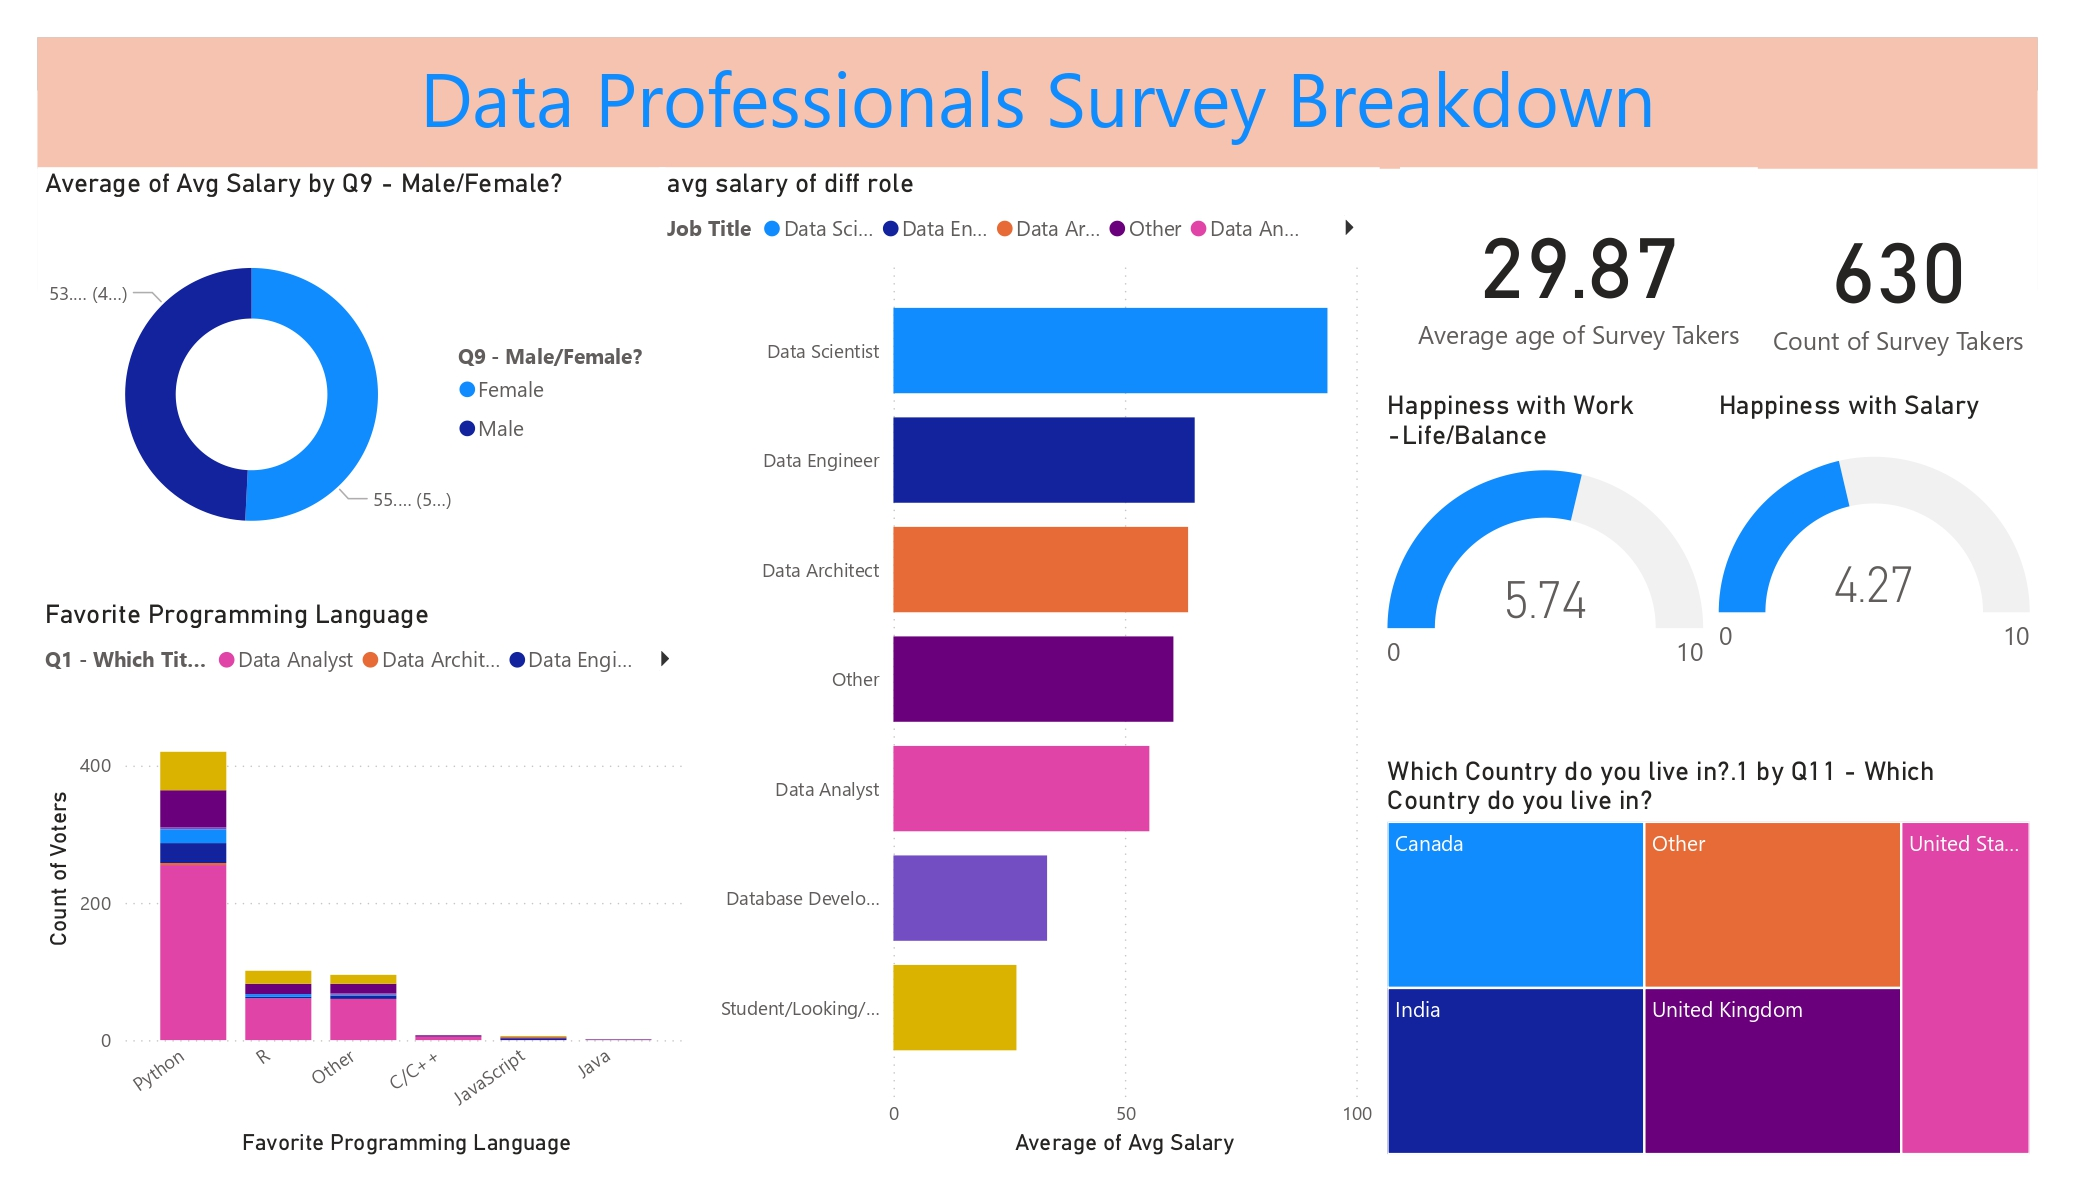

This screenshot's page, from the dashboard's own definition file:
{"tool":"powerbi","page":{"name":"Page 1","canvas":[1280,720],"ordinal":0},"visuals":[{"type":"card","fields":{"Values":["Count(Data Professional Survey.Unique ID)"]},"box":[1101.9,83.7,178.4,142.7],"z":0},{"type":"textbox","box":[0,0,1280.3,83.7],"z":1},{"type":"card","fields":{"Values":["Avg(Data Professional Survey.Q10 - Current Age)"]},"box":[871.7,83.3,229.5,136.6],"z":2},{"type":"barChart","title":"avg salary of diff role","fields":{"Category":["Data Professional Survey.Q1 - Which Title Best Fits your Current Role?.1"],"Y":["Avg(Data Professional Survey.Avg Salary)"],"Series":["Data Professional Survey.Q1 - Which Title Best Fits your Current Role?.1"]},"box":[397.6,83.3,461.8,636.7],"z":3},{"type":"columnChart","title":"Favorite Programming Language","fields":{"Category":["Data Professional Survey.Q5 - Favorite Programming Language.1"],"Y":["CountNonNull(Data Professional Survey.Unique ID)"],"Series":["Data Professional Survey.Q1 - Which Title Best Fits your Current Role?.1"]},"box":[0,359.4,420.8,360.7],"z":4},{"type":"treemap","title":"Which Country do you live in?.1 by Q11 - Which Country do you live in?","fields":{"Group":["Data Professional Survey.Q11 - Which Country do you live in?.1"],"Values":["Count(Data Professional Survey.Q11 - Which Country do you live in?.1)"]},"box":[859.4,459.1,420.8,261],"z":5},{"type":"gauge","title":"Happiness with Work -Life/Balance","fields":{"Y":["Avg(Data Professional Survey.Q6 - How Happy are you in your Current Position with the following? (Work/Life Balance))"],"MinValue":["Min(Data Professional Survey.Q6 - How Happy are you in your Current Position with the following? (Work/Life Balance))1"],"MaxValue":["Max(Data Professional Survey.Q6 - How Happy are you in your Current Position with the following? (Work/Life Balance))2"]},"box":[859.4,225.4,211.8,198.1],"z":6},{"type":"gauge","title":"Happiness with Salary","fields":{"Y":["Avg(Data Professional Survey.Q6 - How Happy are you in your Current Position with the following? (Salary))"],"MinValue":["Min(Data Professional Survey.Q6 - How Happy are you in your Current Position with the following? (Salary))"],"MaxValue":["Max(Data Professional Survey.Q6 - How Happy are you in your Current Position with the following? (Salary))"]},"box":[1071.2,225.4,209.1,198.1],"z":7},{"type":"donutChart","fields":{"Category":["Data Professional Survey.Q9 - Male/Female?"],"Y":["Avg(Data Professional Survey.Avg Salary)"]},"box":[0,83.3,401.7,271.9],"z":8}]}

Visuals, with their boxes in screenshot pixels (x1, y1, x2, y2):
card - Count(Data Professional Survey.Unique ID): box(1759, 168, 2038, 391)
textbox: box(38, 38, 2038, 168)
card - Avg(Data Professional Survey.Q10 - Current Age): box(1400, 168, 1758, 381)
"avg salary of diff role" barChart: box(659, 168, 1380, 1162)
"Favorite Programming Language" columnChart: box(38, 599, 695, 1162)
"Which Country do you live in?.1 by Q11 - Which Country do you live in?" treemap: box(1380, 755, 2038, 1162)
"Happiness with Work -Life/Balance" gauge: box(1380, 390, 1711, 699)
"Happiness with Salary" gauge: box(1711, 390, 2038, 699)
donutChart - Data Professional Survey.Q9 - Male/Female? x Avg(Data Professional Survey.Avg Salary): box(38, 168, 665, 592)
